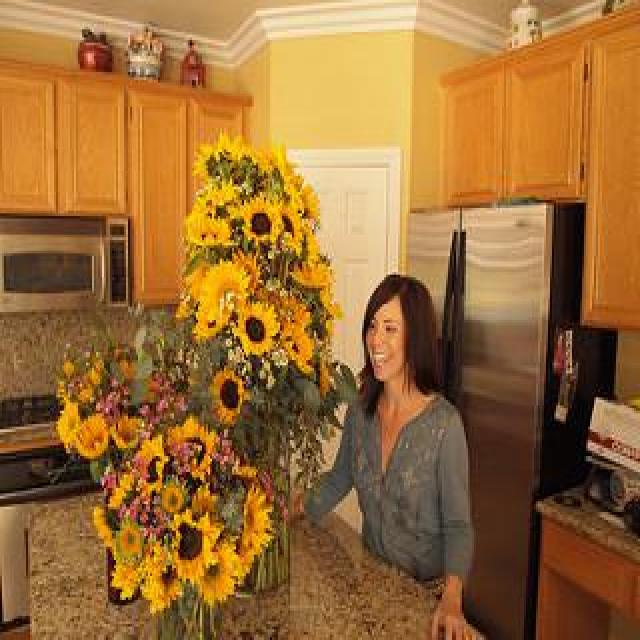sunflower: (196, 258, 250, 320), (170, 511, 218, 579), (240, 487, 278, 553), (171, 420, 215, 473), (196, 552, 234, 604), (237, 302, 274, 353), (243, 198, 283, 245), (210, 366, 242, 420), (147, 555, 181, 605), (71, 415, 107, 460), (284, 320, 314, 373), (139, 439, 166, 486), (109, 414, 143, 448), (192, 141, 221, 177), (92, 507, 116, 545), (108, 476, 135, 508), (278, 207, 299, 244), (238, 144, 259, 178), (220, 139, 239, 176), (188, 217, 212, 245), (161, 487, 185, 512), (316, 360, 328, 396), (212, 217, 228, 242)
